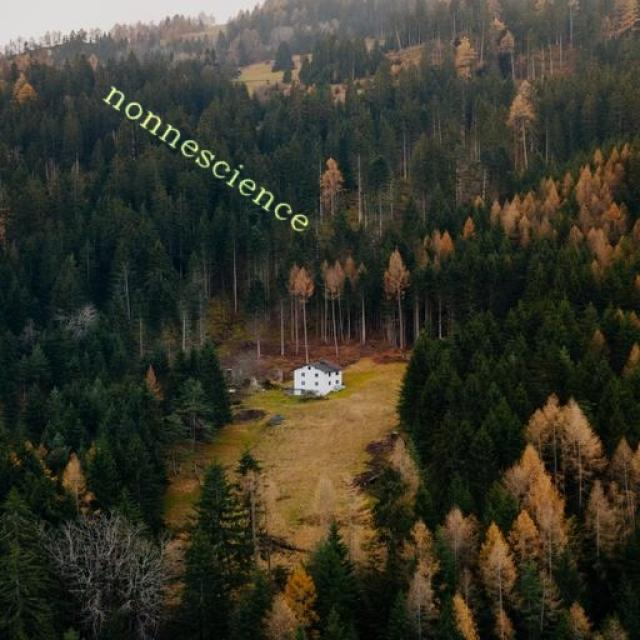watermark: (93, 72, 327, 240)
